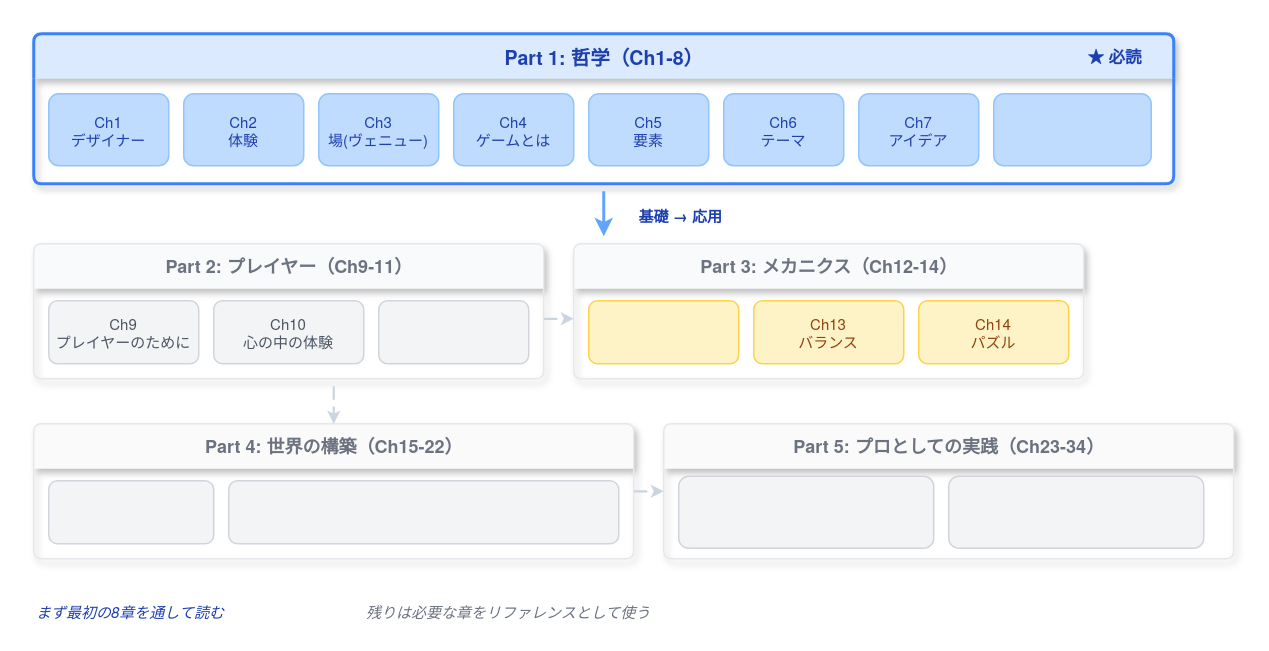
Some shapes in this 1269 by 651 pixel diagram are drawn without their labels. The centre of each missing label's shape, as x and y in pixels:
Ch11 モチベーション: (453,331)
Ch12 ゲームメカニクス: (663,331)
Ch15 インターフェース: (130,511)
Ch16-22 ストーリー・世界観・美学・テクノロジー: (423,511)
Ch23-28 コミュニティ・チーム ドキュメント・ビジネス: (805,511)
Ch29-34 クライアント・ピッチ 倫理・責任: (1075,511)
Ch8 イテレーション: (1071,129)
